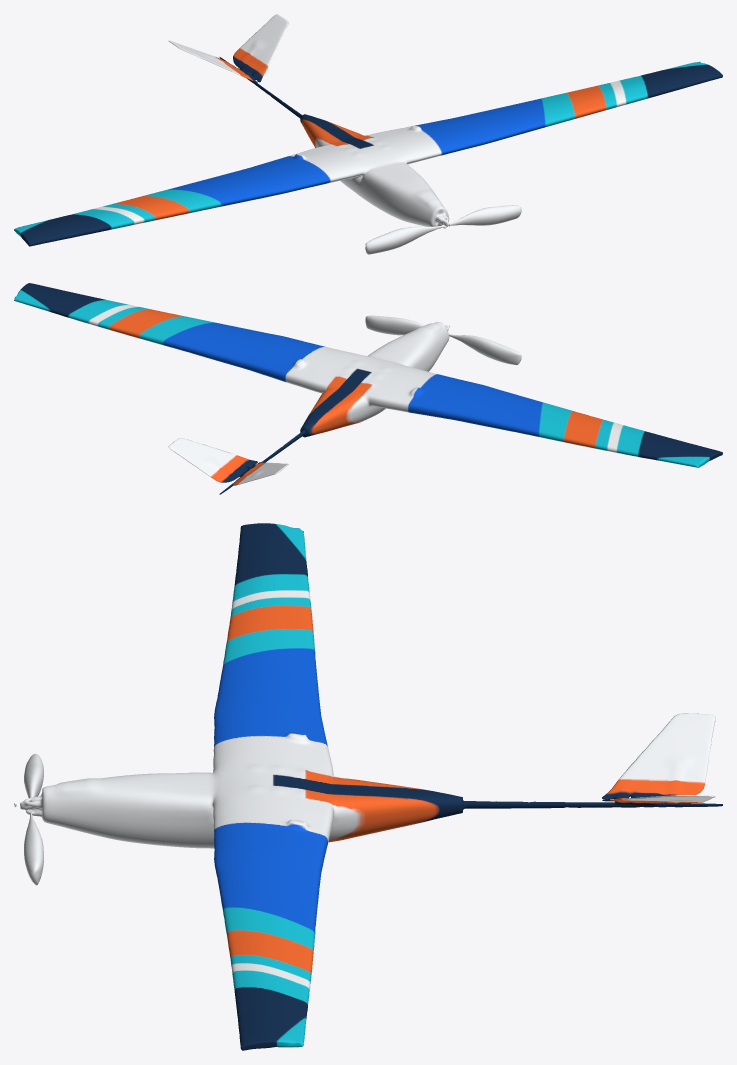
The model's file is fixed-wing-sport.glb.
3 renders of one model, top to bottom at view 1: azimuth 30°, elevation 25°; view 2: azimuth 150°, elevation 25°; view 3: azimuth 270°, elevation 25°, orthographic. The views are drawn at different scales.
Visible parts, largest first — view 1: airframe-surface-0, airframe-surface-18000, airframe-surface-36000; view 2: airframe-surface-0, airframe-surface-18000, airframe-surface-36000; view 3: airframe-surface-18000, airframe-surface-0, airframe-surface-36000.
Part boxes in pixels (left/top/right/bottom): airframe-surface-0: left=14, top=40, right=447, bottom=254; airframe-surface-18000: left=14, top=14, right=722, bottom=246; airframe-surface-36000: left=238, top=62, right=722, bottom=226; airframe-surface-0: left=233, top=322, right=722, bottom=485; airframe-surface-18000: left=14, top=294, right=722, bottom=494; airframe-surface-36000: left=14, top=283, right=445, bottom=478; airframe-surface-18000: left=20, top=523, right=715, bottom=1050; airframe-surface-0: left=24, top=526, right=715, bottom=811; airframe-surface-36000: left=14, top=787, right=722, bottom=1050.
Bounding box in the file's own units: 381 × 34.33 × 219.
1 material, 1 textured.
